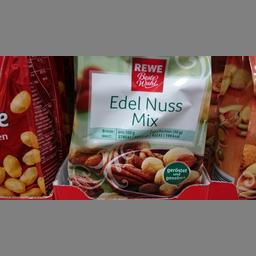nuts: (66, 56, 212, 199)
